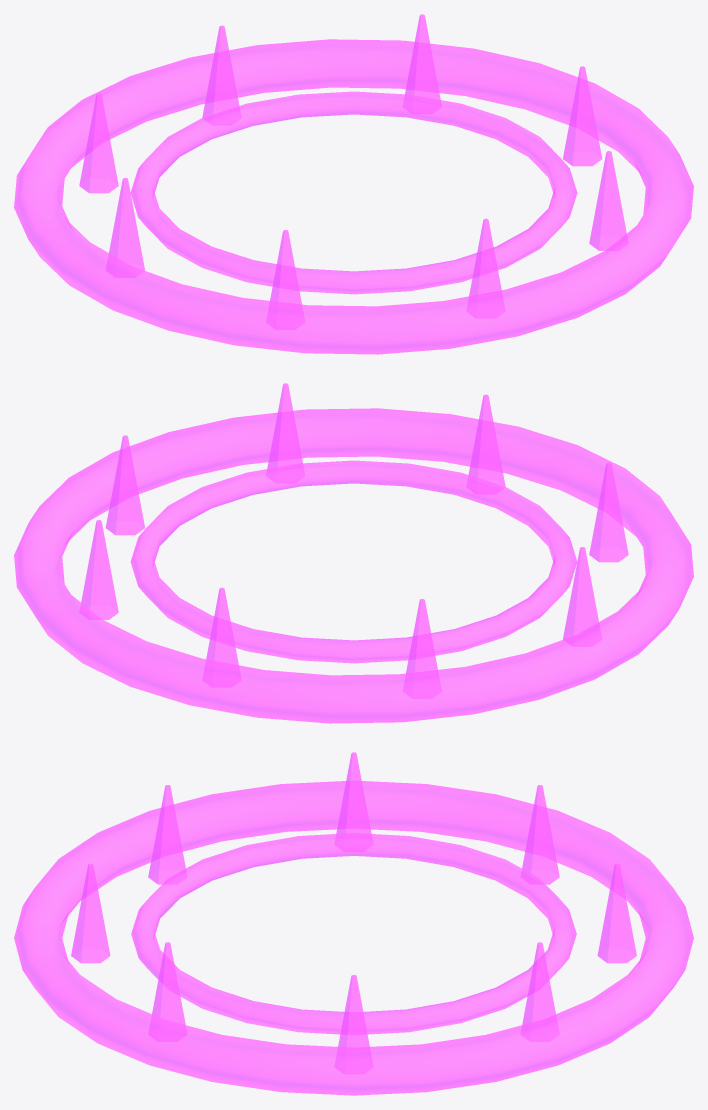
The model's file is VFX_SummonSpawnPortal_v01.glb.
The picture shows the model from 3 angles, top to bottom: view 1: azimuth 30°, elevation 25°; view 2: azimuth 150°, elevation 25°; view 3: azimuth 270°, elevation 25°; orthographic projection.
Visible parts, largest first — view 1: MESH_SummonSpawnPortal; view 2: MESH_SummonSpawnPortal; view 3: MESH_SummonSpawnPortal.
Part boxes in pixels (left/top/right/bottom): MESH_SummonSpawnPortal: left=14, top=14, right=693, bottom=354; MESH_SummonSpawnPortal: left=14, top=383, right=693, bottom=723; MESH_SummonSpawnPortal: left=14, top=752, right=693, bottom=1095.
Bounding box in the file's own units: 1.55 × 0.2326 × 1.55.
